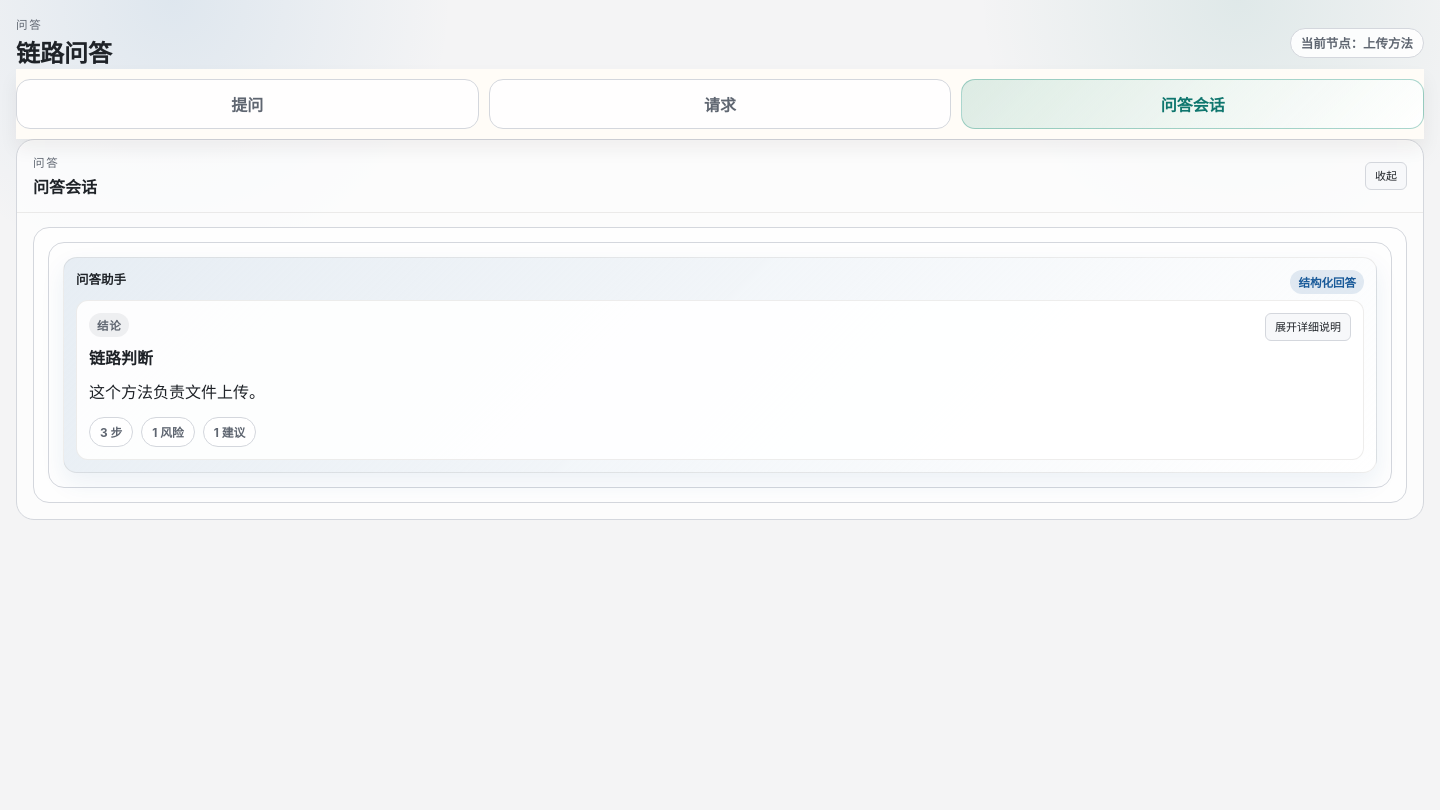
Test: QaTab › renders assistant answers as readable sections instead of one raw paragraph
Expected: the text "结论" is shown, [89,313,129,337]
Expected: the heading "链路判断" is shown, [89,345,153,369]
Step 1. Click the button "展开详细说明" → point(1308, 327), box [1265,313,1351,341]
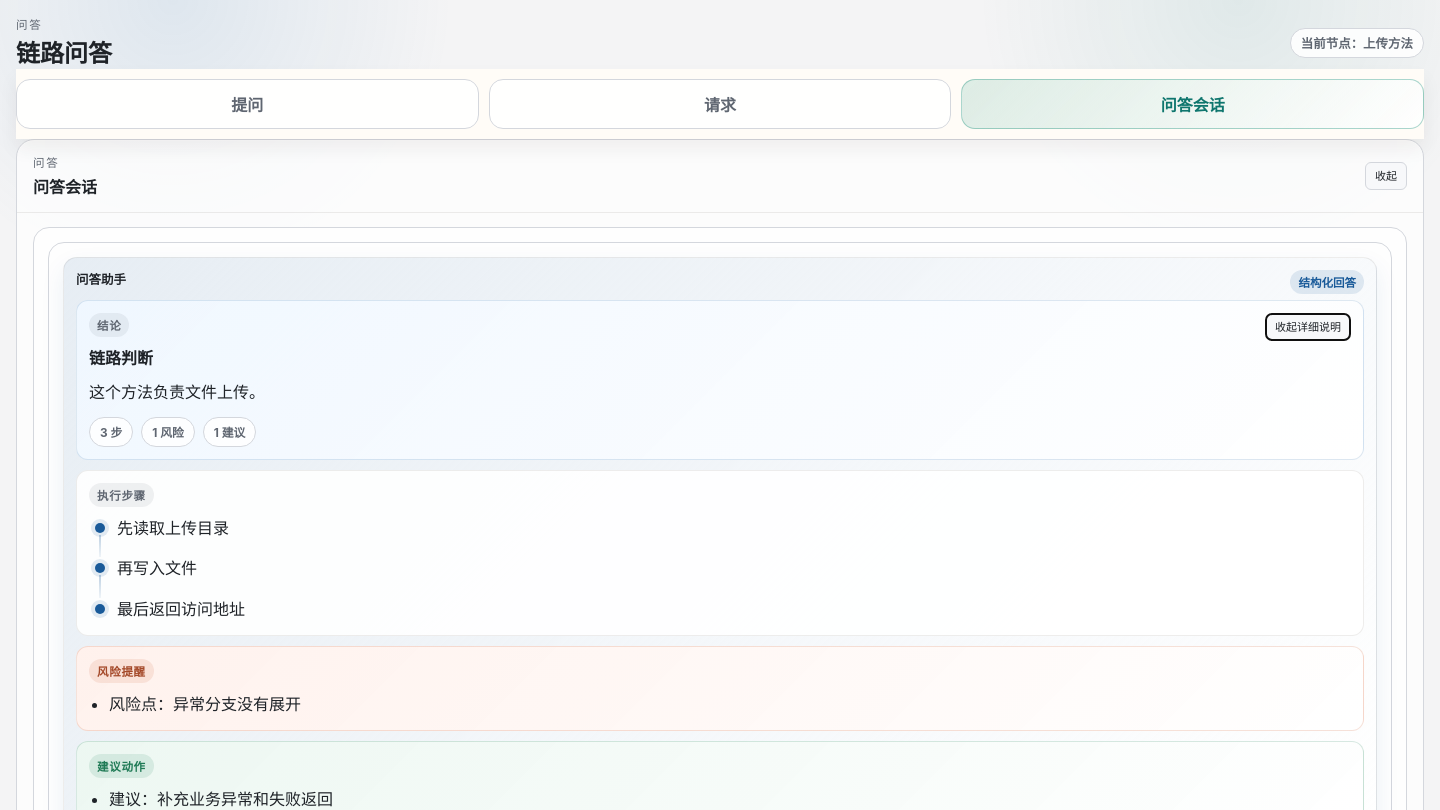
Now the text "执行步骤" is shown, box [89,482,154,506]
Now the text "风险提醒" is shown, box [89,659,154,683]
Now the text "建议动作" is shown, box [89,754,154,778]
